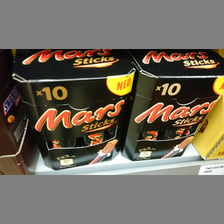chocolate: (13, 50, 132, 170), (125, 50, 222, 159)
